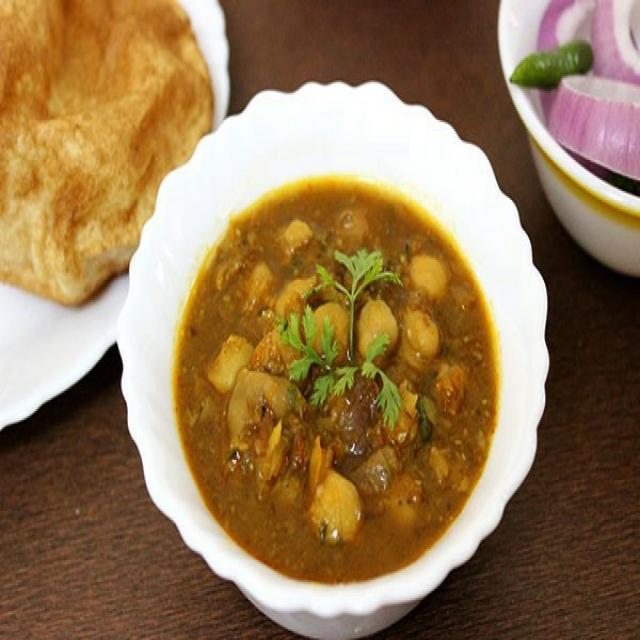Chole: (175, 178, 498, 584)
